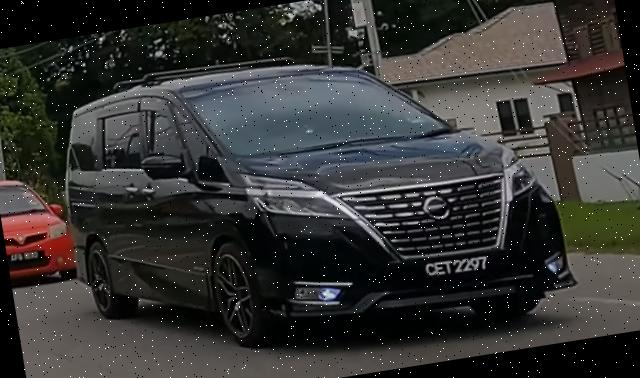License_Plate: (422, 254, 493, 283)
car: (46, 15, 582, 378), (1, 170, 79, 288)
